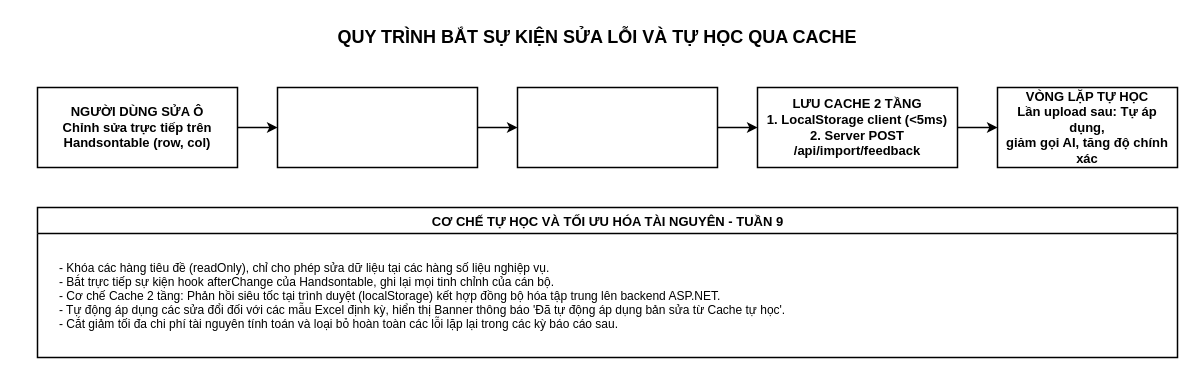
Image size: 1195x375. Some labels were removed from this diagram. The shapes that lost their labels are listed below. From the top down, each one's centre as x and y in pixels, then its label:
[377,127]: BẮT HOOK AFTERCHANGE Ghi nhận: sheet, tọa độ ô, giá trị cũ sang giá trị mới
[617,127]: ĐÁNH DẤU GIAO DIỆN Gán viền nhận diện thay đổi, kích hoạt nút Lưu vào Cache
